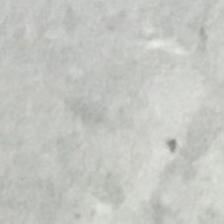Non_Crack: (17, 8, 215, 207)
